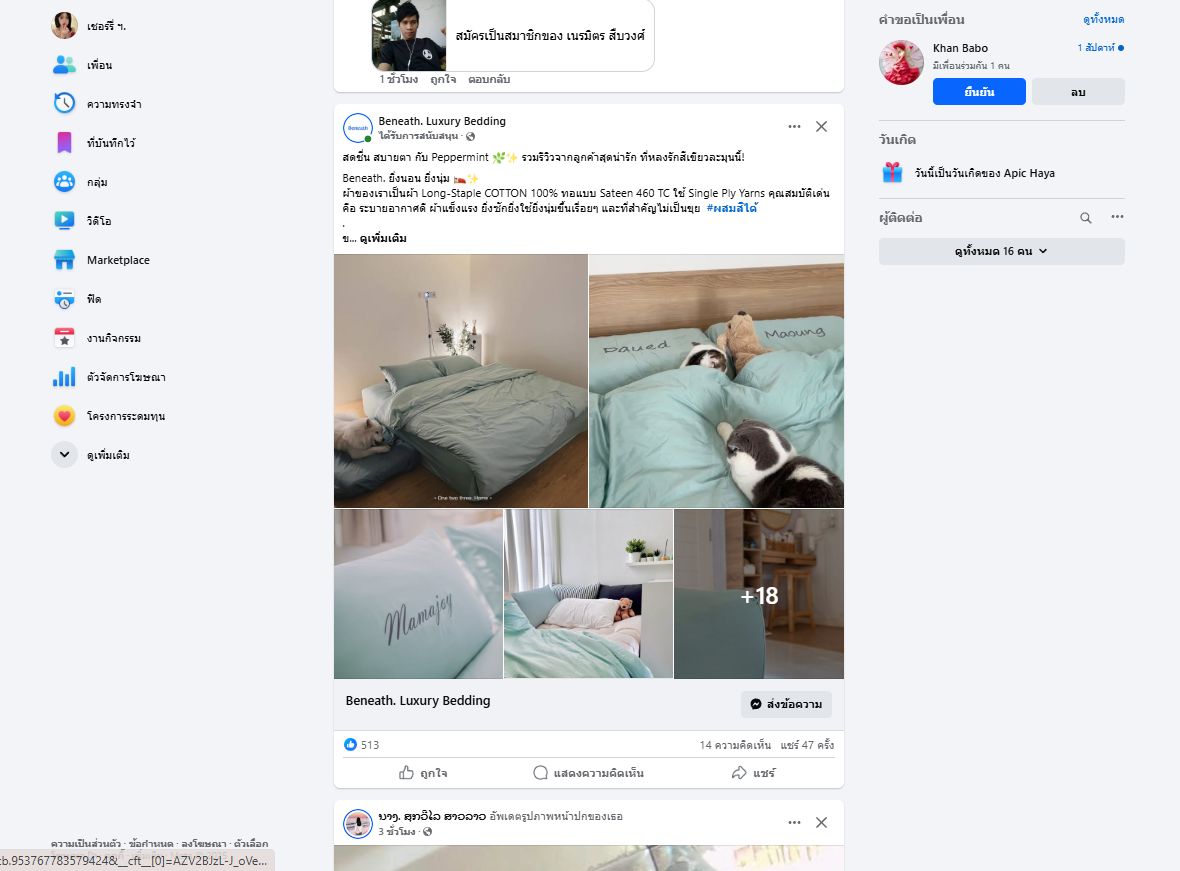topic: (334, 103, 843, 788), (335, 802, 844, 871)
